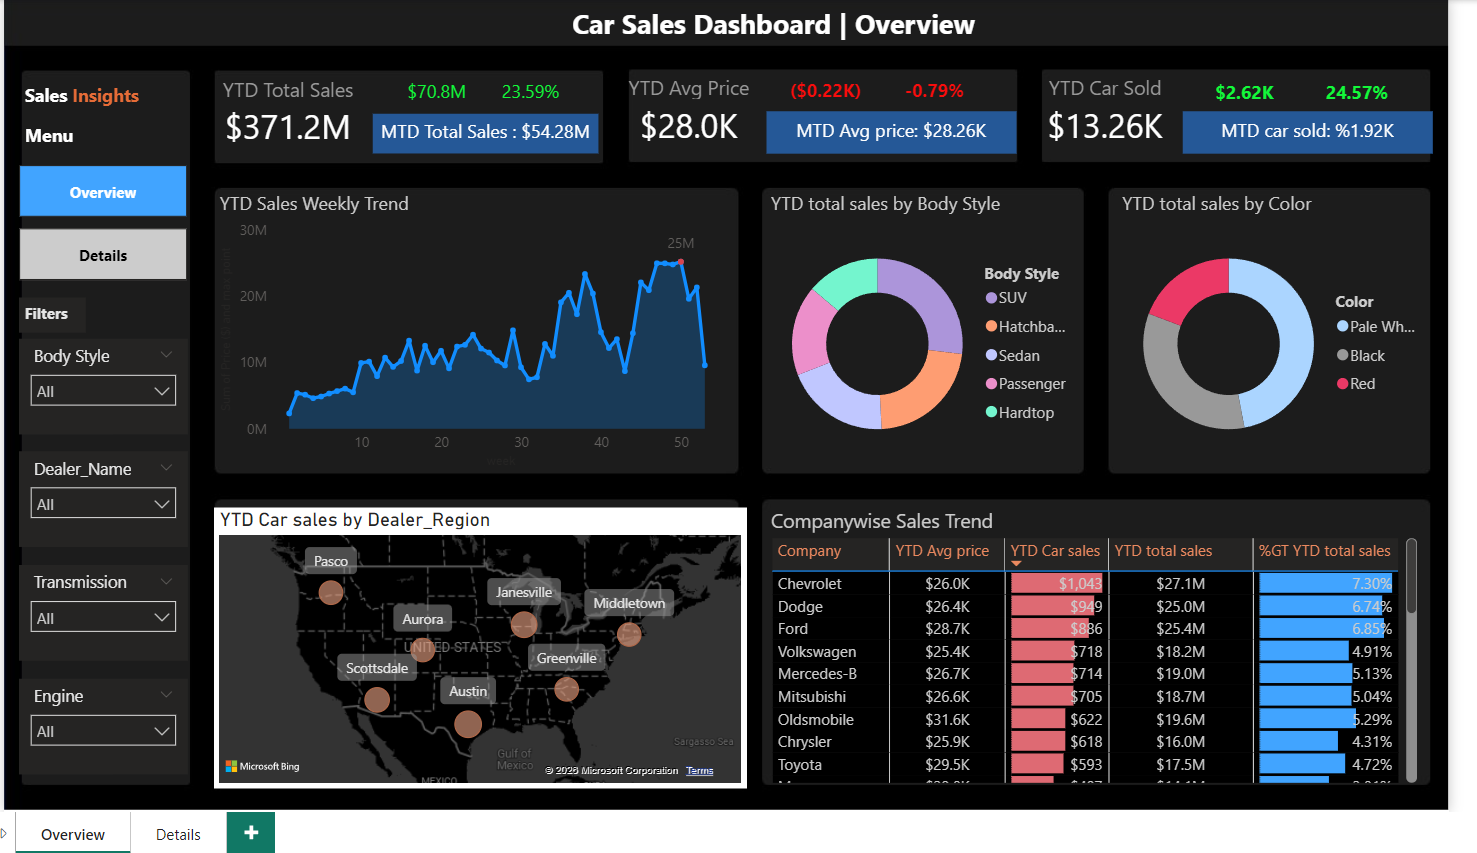

This screenshot's page, from the dashboard's own definition file:
{"tool":"powerbi","page":{"name":"Overview","canvas":[1280,720],"ordinal":0},"visuals":[{"type":"card","title":"YTD Total Sales","fields":{"Values":["car_data.YTD total sales"]},"box":[186.9,67.2,129.1,68.6],"z":0},{"type":"card","fields":{"Values":["car_data.sales difference"]},"box":[312.9,64.5,142.7,37],"z":1000},{"type":"card","fields":{"Values":["car_data.YOY sales"]},"box":[395.2,64.5,142.7,37],"z":2000},{"type":"card","fields":{"Values":["car_data.MTD Total sales_2"]},"box":[326.4,100.9,200.3,35],"z":3000},{"type":"card","title":"YTD Avg Price","fields":{"Values":["car_data.YTD Avg price"]},"box":[537.9,65.8,137.3,70],"z":4000},{"type":"card","fields":{"Values":["car_data.Avg Price Difference"]},"box":[657,63,142.9,37.8],"z":5000},{"type":"card","fields":{"Values":["car_data.YOY avg growth"]},"box":[753.6,63,142.9,37.8],"z":6000},{"type":"card","fields":{"Values":["car_data.MTD avg price kpi"]},"box":[675.2,98.1,221.3,37.8],"z":7000},{"type":"card","title":"YTD Car Sold","fields":{"Values":["car_data.YTD Car sales"]},"box":[907.7,65.8,137.3,70],"z":8000},{"type":"card","fields":{"Values":["car_data.Car sold difference"]},"box":[1028.1,65.8,142.9,37.8],"z":9000},{"type":"card","fields":{"Values":["car_data.Car sold growth"]},"box":[1127.6,65.8,142.9,37.8],"z":10000},{"type":"card","fields":{"Values":["car_data.MTD car sold kpi"]},"box":[1045,98.1,221.3,37.8],"z":11000},{"type":"areaChart","title":"YTD Sales Weekly Trend","fields":{"Y":["Sum(car_data.Price ($))","car_data.max point"],"Category":["Calender Table.week"]},"box":[185.6,168.1,457.2,251.5],"z":12000},{"type":"donutChart","fields":{"Y":["car_data.YTD total sales"],"Category":["car_data.Body Style"]},"box":[675.1,168.1,281.1,251.5],"z":13000},{"type":"donutChart","fields":{"Y":["car_data.YTD total sales"],"Category":["car_data.Color"]},"box":[985.8,168.1,281.1,251.5],"z":14000},{"type":"map","fields":{"Category":["car_data.Dealer_Region"],"Size":["car_data.YTD Car sales"]},"box":[185.6,449.2,472,248.8],"z":15000},{"type":"tableEx","title":"Companywise Sales Trend","fields":{"Values":["car_data.Company","car_data.YTD Avg price","car_data.YTD Car sales","car_data.YTD total sales1","car_data.YTD total sales"]},"box":[675.1,449.2,582.3,248.8],"z":16000},{"type":"textbox","box":[498.9,0,457.2,45.7],"z":17000},{"type":"slicer","fields":{"Values":["car_data.Body Style"]},"box":[13.4,299.9,149.3,84.7],"z":18000},{"type":"slicer","fields":{"Values":["car_data.Dealer_Name"]},"box":[13.4,400.3,149.3,84.7],"z":19000},{"type":"slicer","fields":{"Values":["car_data.Transmission"]},"box":[13.4,500.7,149.3,84.7],"z":20000},{"type":"slicer","fields":{"Values":["car_data.Engine"]},"box":[13.4,601.1,149.3,84.7],"z":21000},{"type":"textbox","box":[13.4,263.6,59.2,30.9],"z":22000},{"type":"pageNavigator","box":[13.4,146.6,149.3,102.2],"z":23000},{"type":"textbox","box":[13.4,67.2,118.3,36.3],"z":24000},{"type":"textbox","box":[13.4,103.6,63.2,36.3],"z":25000}]}

Visuals, with their boxes on the page's 1280x720 design canvas (x1, y1, x2, y2). These are canvas units, not pixel positions in the 1477x853 screenshot, which may show the page scaled, cropped or inside an application window:
"YTD Total Sales" card: {"left": 187, "top": 67, "right": 316, "bottom": 136}
card - car_data.sales difference: {"left": 313, "top": 64, "right": 456, "bottom": 102}
card - car_data.YOY sales: {"left": 395, "top": 64, "right": 538, "bottom": 102}
card - car_data.MTD Total sales_2: {"left": 326, "top": 101, "right": 527, "bottom": 136}
"YTD Avg Price" card: {"left": 538, "top": 66, "right": 675, "bottom": 136}
card - car_data.Avg Price Difference: {"left": 657, "top": 63, "right": 800, "bottom": 101}
card - car_data.YOY avg growth: {"left": 754, "top": 63, "right": 896, "bottom": 101}
card - car_data.MTD avg price kpi: {"left": 675, "top": 98, "right": 896, "bottom": 136}
"YTD Car Sold" card: {"left": 908, "top": 66, "right": 1045, "bottom": 136}
card - car_data.Car sold difference: {"left": 1028, "top": 66, "right": 1171, "bottom": 104}
card - car_data.Car sold growth: {"left": 1128, "top": 66, "right": 1270, "bottom": 104}
card - car_data.MTD car sold kpi: {"left": 1045, "top": 98, "right": 1266, "bottom": 136}
"YTD Sales Weekly Trend" areaChart: {"left": 186, "top": 168, "right": 643, "bottom": 420}
donutChart - car_data.YTD total sales x car_data.Body Style: {"left": 675, "top": 168, "right": 956, "bottom": 420}
donutChart - car_data.YTD total sales x car_data.Color: {"left": 986, "top": 168, "right": 1267, "bottom": 420}
map - car_data.Dealer_Region x car_data.YTD Car sales: {"left": 186, "top": 449, "right": 658, "bottom": 698}
"Companywise Sales Trend" tableEx: {"left": 675, "top": 449, "right": 1257, "bottom": 698}
textbox: {"left": 499, "top": 0, "right": 956, "bottom": 46}
slicer - car_data.Body Style: {"left": 13, "top": 300, "right": 163, "bottom": 385}
slicer - car_data.Dealer_Name: {"left": 13, "top": 400, "right": 163, "bottom": 485}
slicer - car_data.Transmission: {"left": 13, "top": 501, "right": 163, "bottom": 585}
slicer - car_data.Engine: {"left": 13, "top": 601, "right": 163, "bottom": 686}
textbox: {"left": 13, "top": 264, "right": 73, "bottom": 294}
pageNavigator: {"left": 13, "top": 147, "right": 163, "bottom": 249}
textbox: {"left": 13, "top": 67, "right": 132, "bottom": 104}
textbox: {"left": 13, "top": 104, "right": 77, "bottom": 140}
